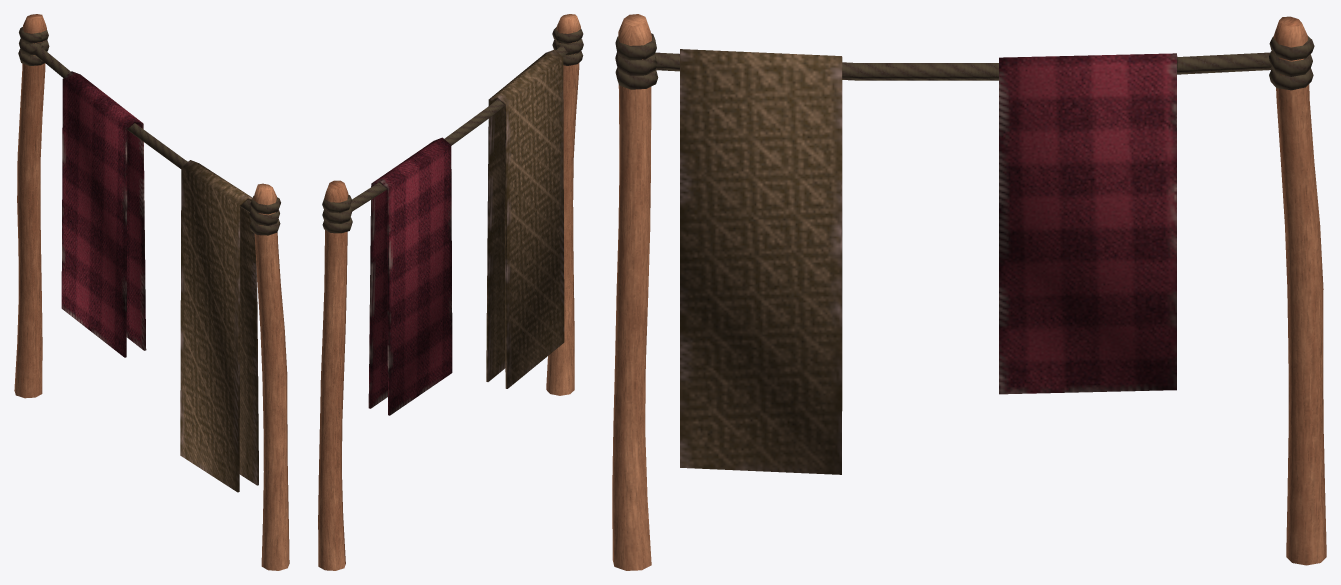
The model's file is Drying line 3.fbx.
3 renders of one model, left to right at view 1: azimuth 30°, elevation 25°; view 2: azimuth 150°, elevation 25°; view 3: azimuth 270°, elevation 25°, orthographic. The views are drawn at different scales.
Visible parts, largest first — view 1: Drying line 3; view 2: Drying line 3; view 3: Drying line 3.
Boxes of the visible parts, x1=… form: Drying line 3: x1=14, y1=14, x2=289, y2=570; Drying line 3: x1=318, y1=14, x2=583, y2=570; Drying line 3: x1=612, y1=14, x2=1326, y2=570.
Bounding box in the file's own units: 0.1164 × 1.22 × 1.48.
